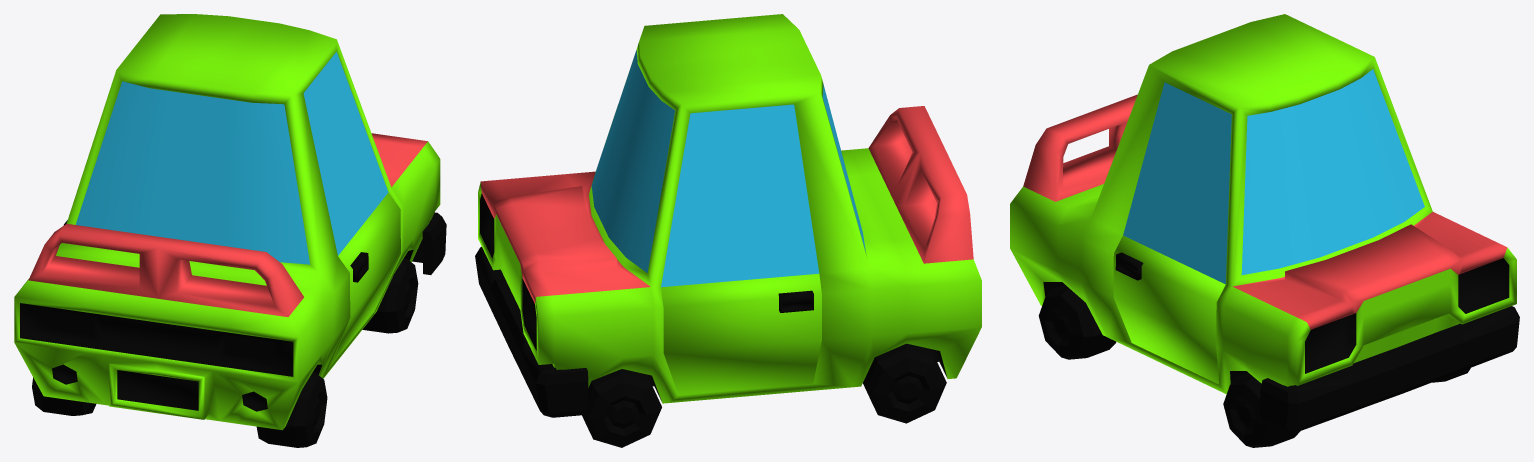
File: ToyObject_145.fbx
3 views of the same model, side by side, from view 1: azimuth 30°, elevation 25°; view 2: azimuth 150°, elevation 25°; view 3: azimuth 270°, elevation 25° (orthographic). The views are drawn at different scales.
Visible parts, largest first — view 1: object-1.057; view 2: object-1.057; view 3: object-1.057.
Boxes of the visible parts, <box> form: object-1.057: <box>14,14,446,447</box>; object-1.057: <box>475,14,981,447</box>; object-1.057: <box>1010,14,1519,447</box>.
Bounding box in the file's own units: 0.1891 × 0.1231 × 0.1848.
